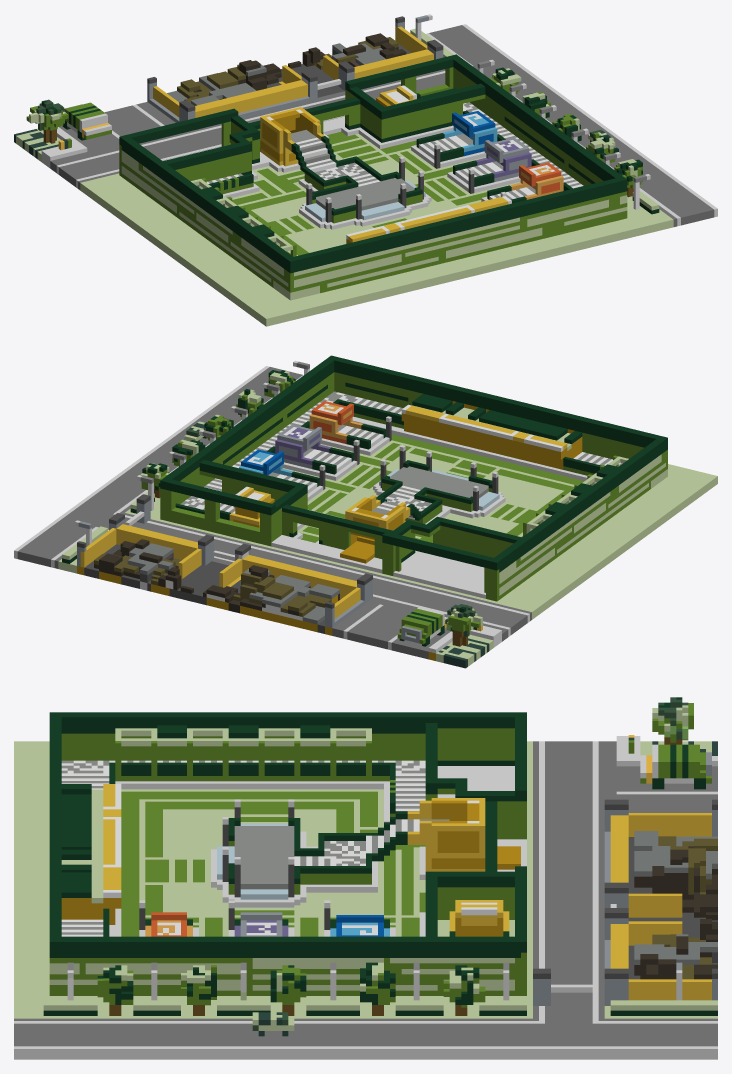
3 renders of one model, top to bottom at view 1: azimuth 30°, elevation 25°; view 2: azimuth 150°, elevation 25°; view 3: azimuth 270°, elevation 25°, orthographic. The views are drawn at different scales.
Visible parts, largest first — view 1: ObjObject; view 2: ObjObject; view 3: ObjObject.
Part boxes in pixels (left/top/right/bottom): ObjObject: left=14, top=14, right=717, bottom=326; ObjObject: left=14, top=355, right=717, bottom=668; ObjObject: left=14, top=697, right=717, bottom=1059.
Bounding box in the file's own units: 12.2 × 1.2 × 11.8.
